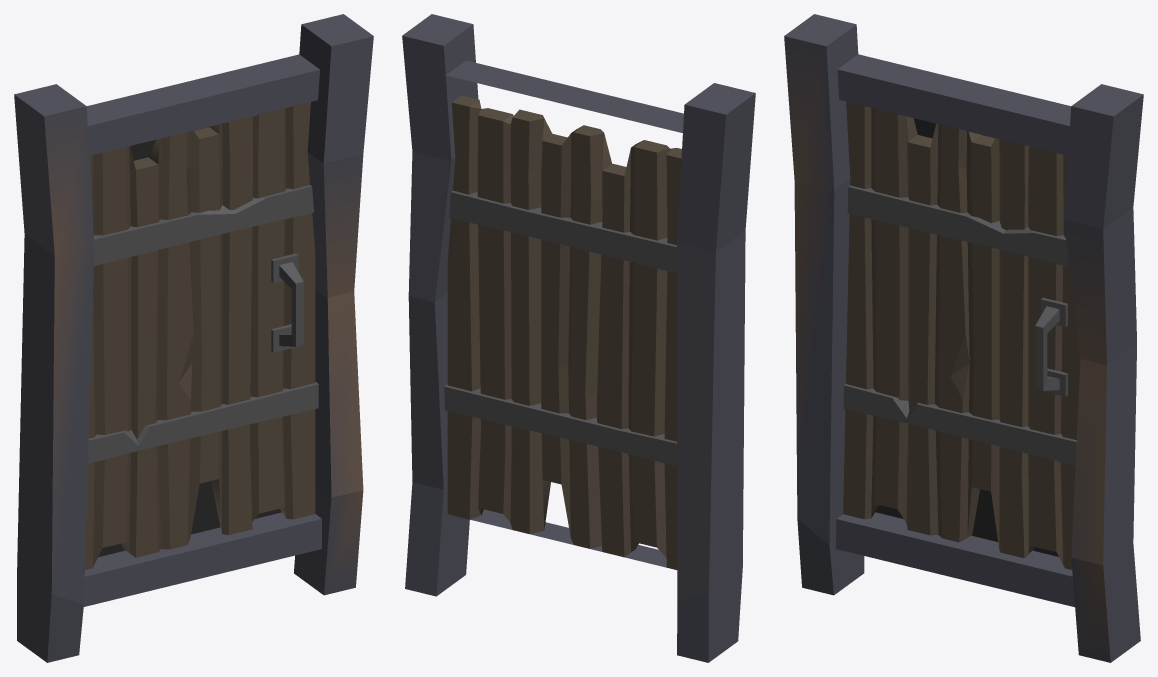
Rendered from SM_Prop_Door_01.glb.
The picture shows the model from 3 angles, left to right: view 1: azimuth 30°, elevation 25°; view 2: azimuth 150°, elevation 25°; view 3: azimuth 330°, elevation 25°; orthographic projection.
Visible parts, largest first — view 1: SM_Prop_Door_01; view 2: SM_Prop_Door_01; view 3: SM_Prop_Door_01.
Part boxes in pixels (x1,y1,x2,y2): SM_Prop_Door_01: (14, 14, 373, 662); SM_Prop_Door_01: (402, 14, 755, 662); SM_Prop_Door_01: (784, 14, 1143, 662).
Bounding box in the file's own units: 0.0146 × 0.0235 × 0.00291.
